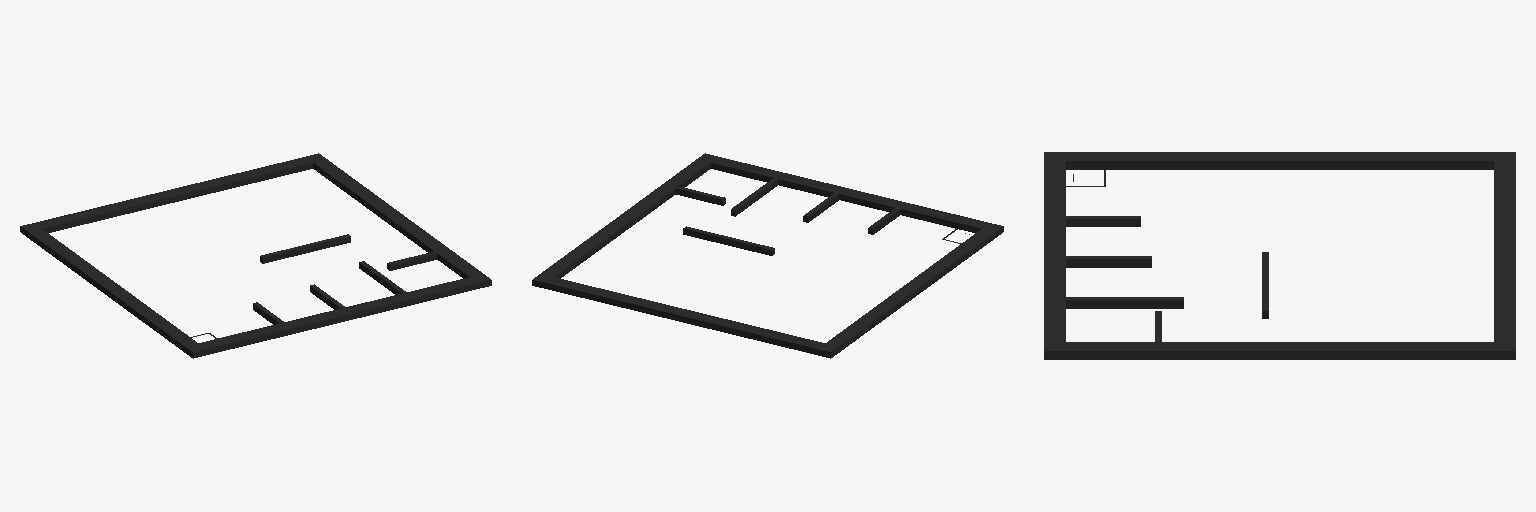
robot.urdf — Room10:
<robot name="Room10">
    <link name="_name">
        <visual> 
            <origin rpy="0.0 0.0 0.0" xyz="-0.5137532751466845 -0.47644184702737497 -0.009999999999999997" />
                <geometry>
                    <mesh filename="Room10/Room10.obj" scale="1 1 0.1" />
                </geometry>

            <material name="black">
                <color rgba="0.2 0.2 0.2 0.95" />
            </material>
        </visual>

       <collision concave="yes" name="collision_0">
            <origin rpy="0.0 0.0 0.0" xyz="-0.5137532751466845 -0.47644184702737497 -0.009999999999999997" />
            <geometry>
                <mesh filename="Room10/Room10_vhacd.obj" scale="1 1 0.1" />
            </geometry>
        </collision>

        <inertial> 
            <mass value="0" />
            <inertia ixx="0" ixy="0" ixz="0" iyy="0" iyz="0" izz="0" />
        </inertial> 
    </link>
</robot>

--- What the picture shows (computed from the rendered views, not written in the file) ---
The picture shows the robot from 3 angles, left to right: view 1: azimuth 30°, elevation 25°; view 2: azimuth 150°, elevation 25°; view 3: azimuth 270°, elevation 25°; orthographic projection.
Model Room10 with 1 links and 0 joints (none), rooted at _name, posed all joints at 0.
Links seen in each view (by area): view 1: _name; view 2: _name; view 3: _name.
Boxes of the visible links, x1=… form: _name: x1=20, y1=153, x2=491, y2=358; _name: x1=532, y1=153, x2=1003, y2=358; _name: x1=1044, y1=152, x2=1515, y2=359.
Size in the robot's own frame: 1 by 1 by 0.02 metres.
Meshes: 1 distinct files referenced, 1 mesh visuals loaded (1 OBJ).